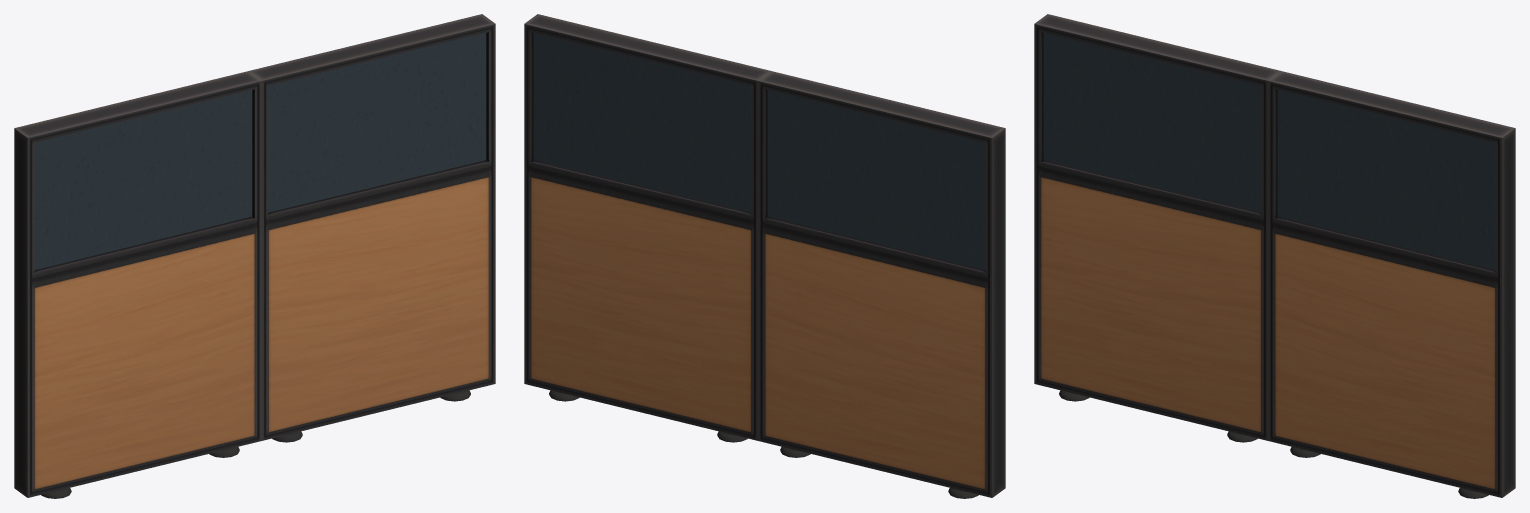
File: OfficePartition01__2.fbx
3 views of the same model, side by side, from view 1: azimuth 30°, elevation 25°; view 2: azimuth 150°, elevation 25°; view 3: azimuth 330°, elevation 25° (orthographic).
Visible parts, largest first — view 1: OfficePartition01A; view 2: OfficePartition01A; view 3: OfficePartition01A.
Part boxes in pixels (<box>): OfficePartition01A: <box>14,14,495,498</box>; OfficePartition01A: <box>524,14,1005,498</box>; OfficePartition01A: <box>1034,14,1515,498</box>.
Size of the model in its own units: 2 by 1.5 by 0.12.
Materials: 1 (1 with a texture image).
